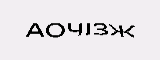І: (83, 18, 93, 39)
А: (23, 19, 44, 38)
Ж: (107, 17, 141, 41)
З: (94, 19, 109, 37)
О: (45, 19, 65, 39)
Ч: (67, 20, 84, 37)
